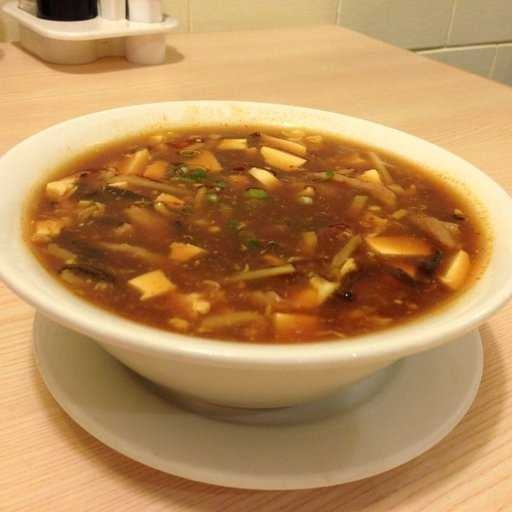soup: (17, 93, 500, 347)
